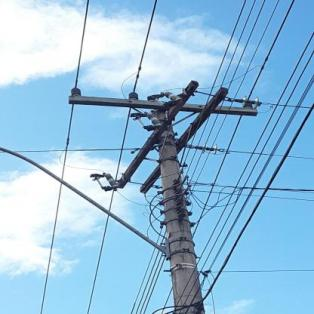Poste: (147, 94, 208, 314)
